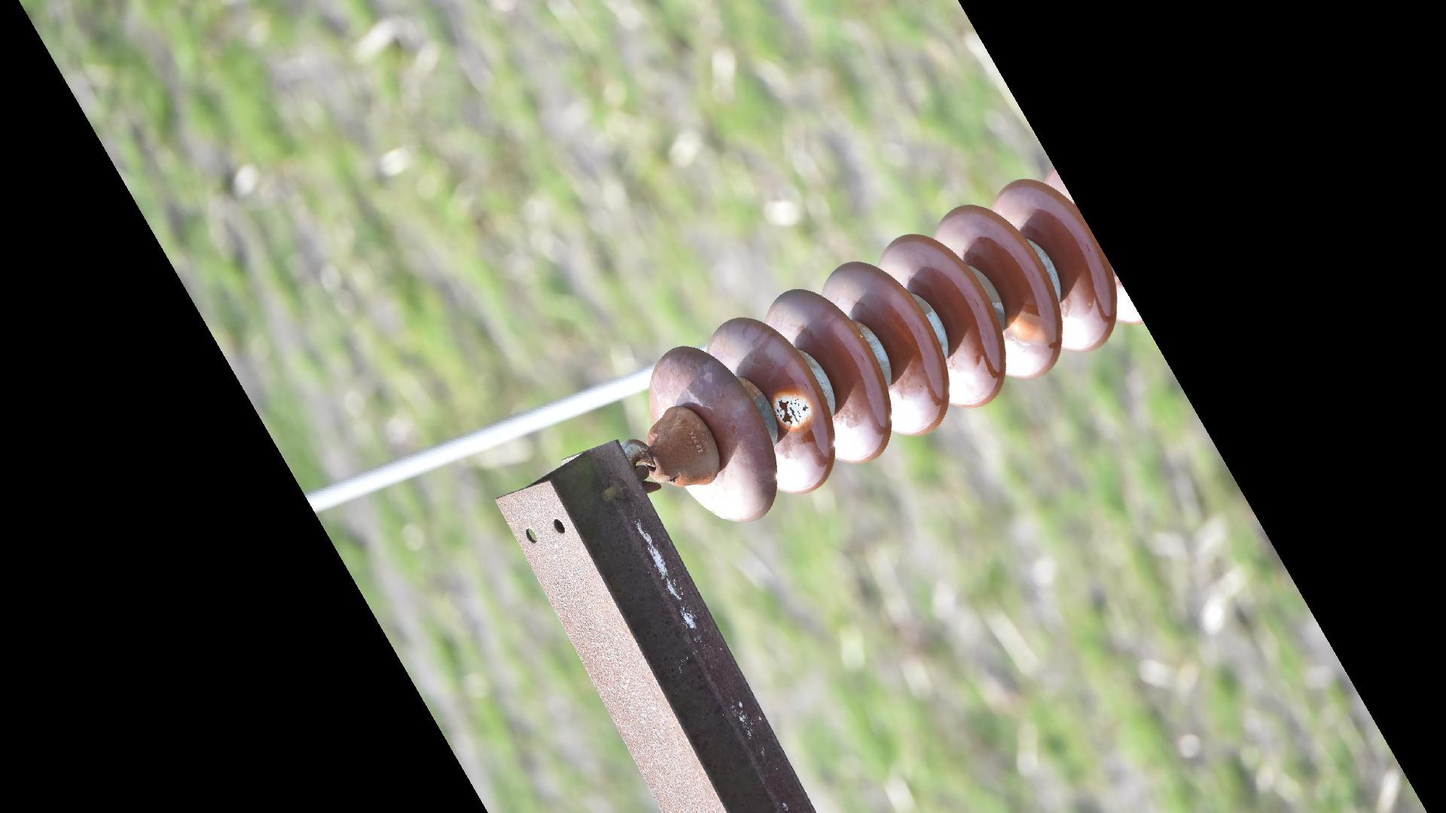insulator: (639, 163, 1142, 529)
insulator_flashover: (1001, 307, 1057, 349), (772, 388, 816, 432)
